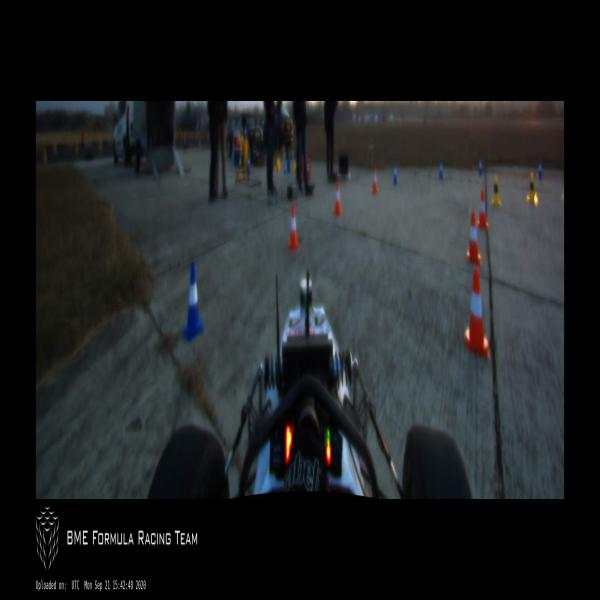blue_cone: (183, 262, 204, 341), (439, 160, 444, 179), (393, 163, 397, 185), (538, 160, 542, 179), (479, 157, 482, 175)
orange_cone: (465, 269, 489, 358), (467, 211, 481, 264), (288, 205, 298, 249), (478, 190, 488, 228), (334, 182, 342, 215), (372, 168, 378, 192)
yellow_cone: (527, 172, 536, 202), (492, 175, 500, 206), (238, 158, 242, 180)
